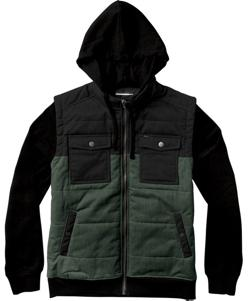C_jacket: (4, 2, 244, 298)
